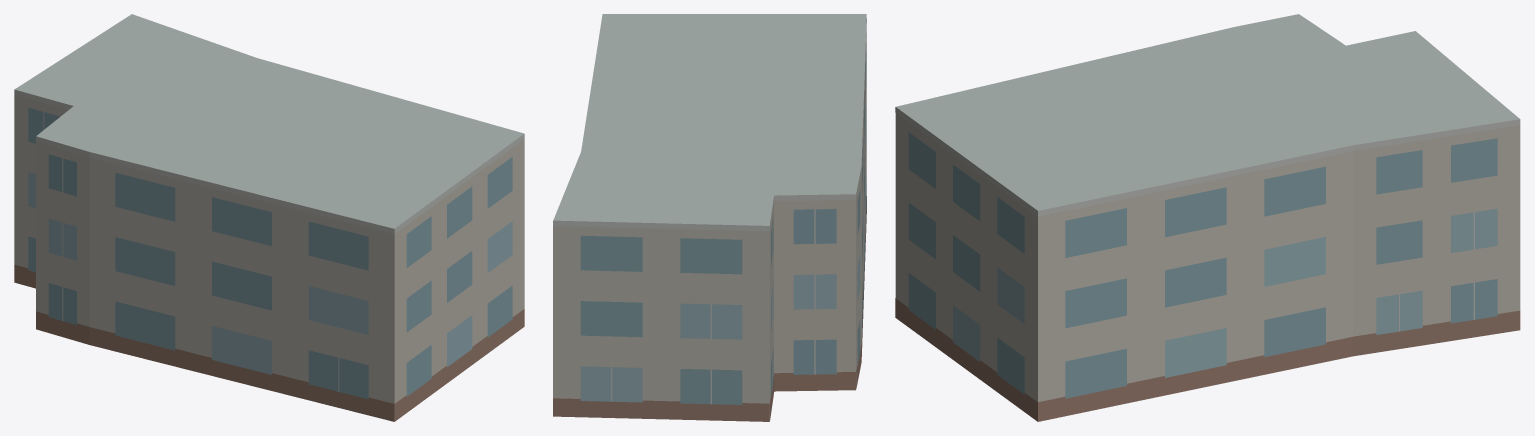
File: survey-upis-32489802.glb
3 renders of one model, left to right at view 1: azimuth 30°, elevation 25°; view 2: azimuth 150°, elevation 25°; view 3: azimuth 270°, elevation 25°, orthographic. The views are drawn at different scales.
Parts seen in each view (by area): view 1: survey-upis-32489802.tmp; view 2: survey-upis-32489802.tmp; view 3: survey-upis-32489802.tmp.
Part boxes in pixels (x1,y1,x2,y2): survey-upis-32489802.tmp: (14, 14, 524, 421); survey-upis-32489802.tmp: (553, 14, 866, 421); survey-upis-32489802.tmp: (895, 14, 1520, 421).
Bounding box in the file's own units: 17.54 × 8.76 × 23.52.
